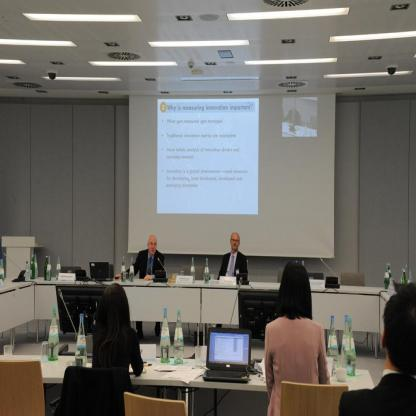board: (203, 331, 256, 390), (327, 314, 339, 369), (75, 313, 87, 367), (346, 318, 356, 375), (174, 308, 184, 364), (48, 304, 58, 360), (160, 307, 170, 362), (341, 315, 349, 368), (89, 261, 110, 281), (384, 261, 390, 291), (204, 258, 210, 284), (191, 256, 196, 284), (56, 254, 61, 280), (121, 256, 126, 281), (0, 259, 5, 282), (130, 256, 134, 282), (47, 254, 51, 279), (34, 252, 38, 277), (25, 260, 30, 280), (31, 255, 35, 279), (45, 254, 48, 280), (402, 269, 406, 284), (388, 264, 392, 278), (408, 269, 412, 283)
